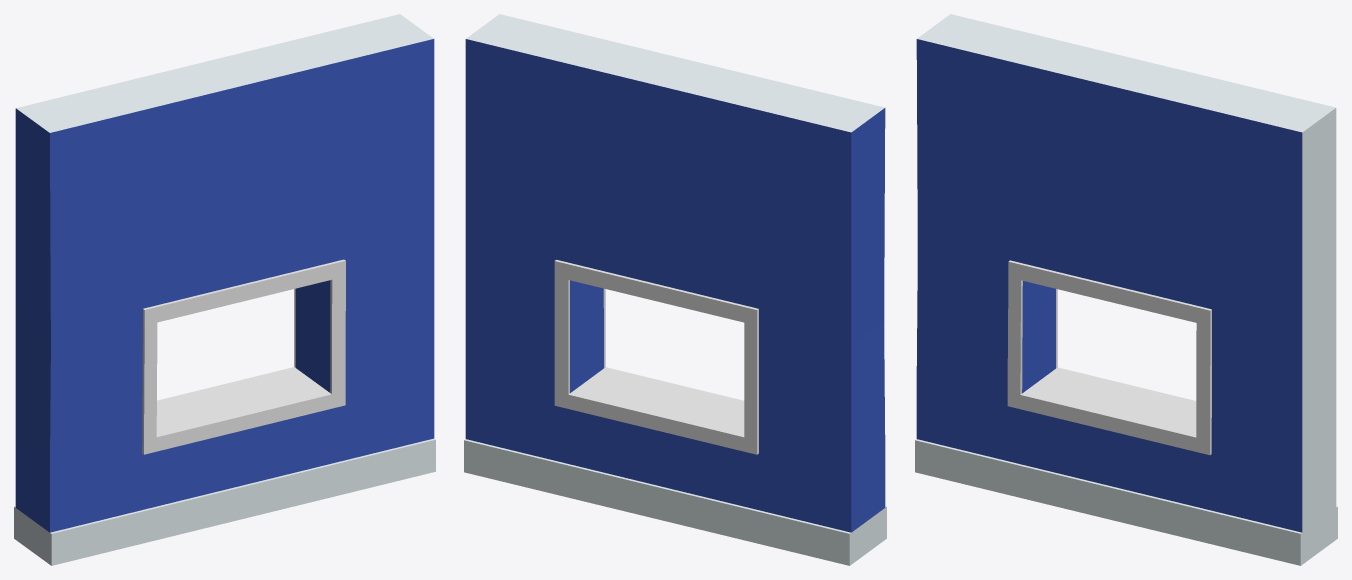
The model's file is Interior_Wall_WideWindow.fbx.
3 renders of one model, left to right at view 1: azimuth 30°, elevation 25°; view 2: azimuth 150°, elevation 25°; view 3: azimuth 330°, elevation 25°, orthographic.
Parts seen in each view (by area): view 1: Cube.360; view 2: Cube.360; view 3: Cube.360.
Part boxes in pixels (left/top/right/bottom): Cube.360: left=14, top=14, right=435, bottom=565; Cube.360: left=464, top=14, right=886, bottom=565; Cube.360: left=915, top=14, right=1337, bottom=565.
Size of the model in its own units: 278 by 298 by 47.25.
